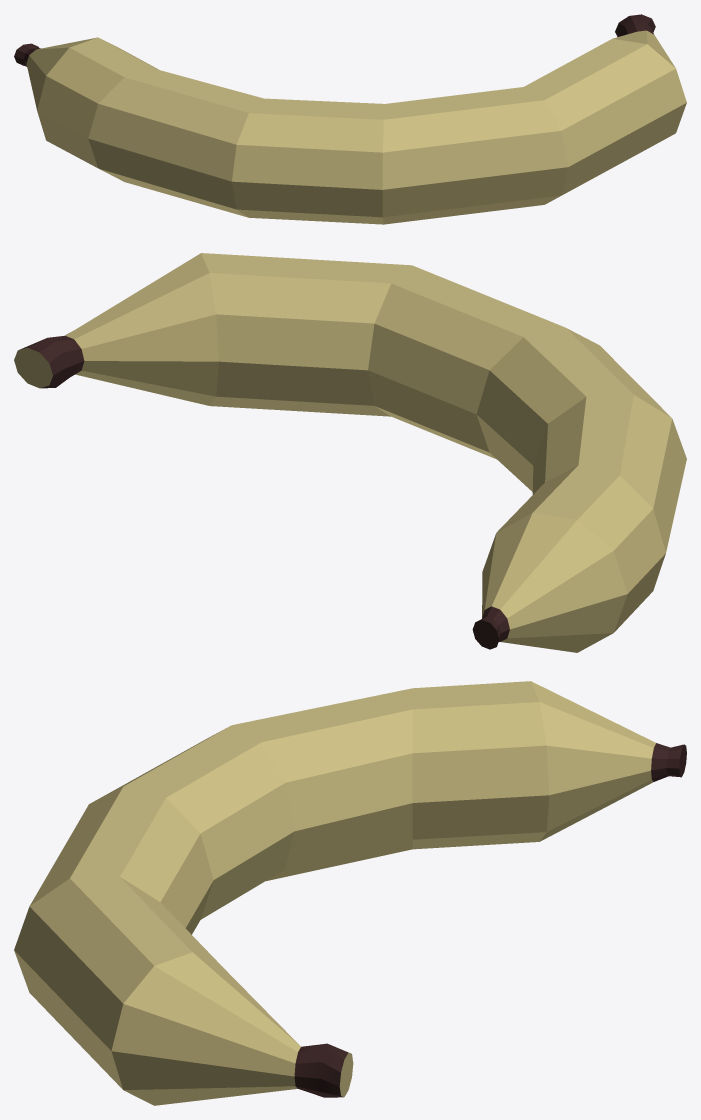
Rendered from prop_banana.fbx.
The picture shows the model from 3 angles, top to bottom: view 1: azimuth 30°, elevation 25°; view 2: azimuth 150°, elevation 25°; view 3: azimuth 270°, elevation 25°; orthographic projection. The views are drawn at different scales.
Parts seen in each view (by area): view 1: pTorus2; view 2: pTorus2; view 3: pTorus2.
Boxes of the visible parts, x1,y1,x2,y2 form: pTorus2: (14, 14, 686, 224); pTorus2: (14, 253, 686, 652); pTorus2: (14, 681, 686, 1105).
Bounding box in the file's own units: 16.77 × 3.05 × 13.29.
